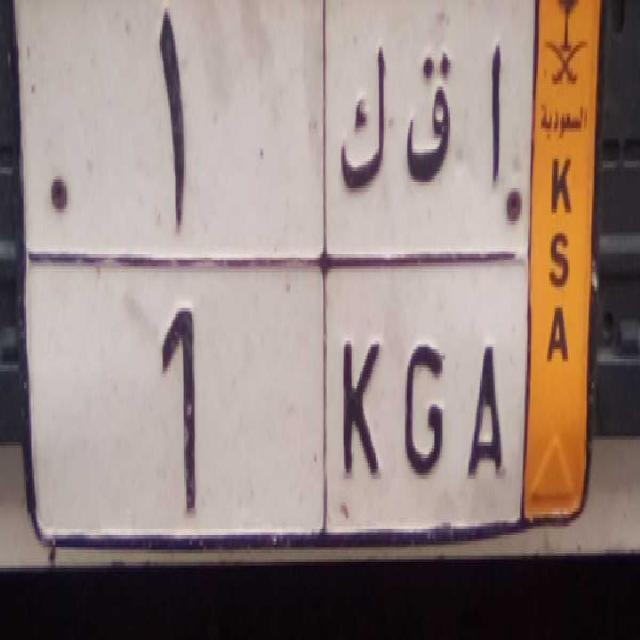license_plate: (93, 269, 514, 560)
